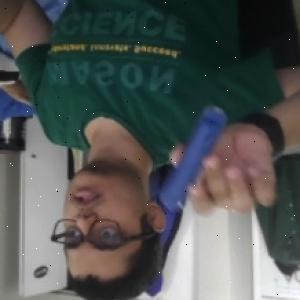Diamond-E-Ciggirate: (157, 101, 230, 215)
